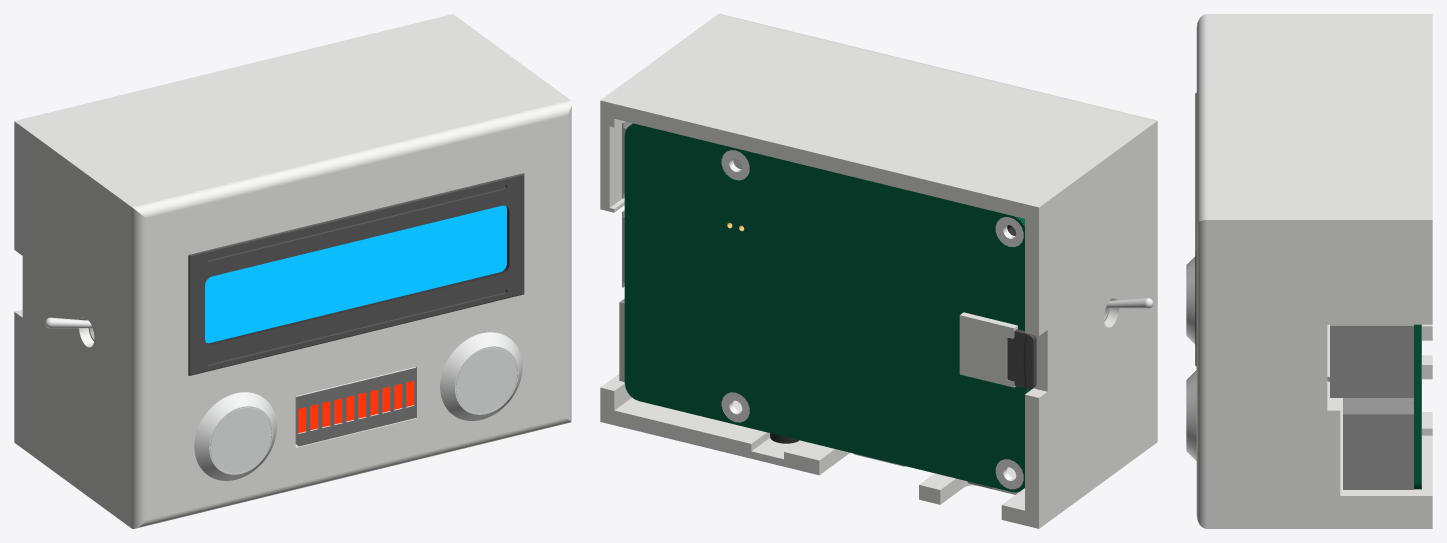
Rendered from RadarBoxSceneTest.glb.
3 renders of one model, left to right at view 1: azimuth 30°, elevation 25°; view 2: azimuth 150°, elevation 25°; view 3: azimuth 270°, elevation 25°, orthographic. The views are drawn at different scales.
Visible parts, largest first — view 1: Body2, Body1.002, Body1, Body1.003, Body1.005; view 2: Body2, Body179, Body14; view 3: Body2, Body5, Body4, Body14, Body1.003, Body1.005, Body1.002.
Part boxes in pixels (x1=…): Body2: x1=14, y1=14, x2=571, y2=528; Body1.002: x1=188, y1=173, x2=524, y2=375; Body1: x1=295, y1=367, x2=416, y2=446; Body1.003: x1=440, y1=332, x2=522, y2=420; Body1.005: x1=194, y1=392, x2=276, y2=480; Body2: x1=600, y1=14, x2=1157, y2=528; Body179: x1=624, y1=124, x2=1036, y2=492; Body14: x1=631, y1=123, x2=1030, y2=489; Body2: x1=1196, y1=14, x2=1432, y2=528; Body5: x1=1343, y1=398, x2=1413, y2=489; Body4: x1=1330, y1=324, x2=1413, y2=397; Body14: x1=1414, y1=324, x2=1421, y2=489; Body1.003: x1=1186, y1=370, x2=1196, y2=460; Body1.005: x1=1186, y1=256, x2=1195, y2=344; Body1.002: x1=1195, y1=93, x2=1196, y2=366.
Bounding box in the file's own units: 0.1016 × 0.065 × 0.047.
